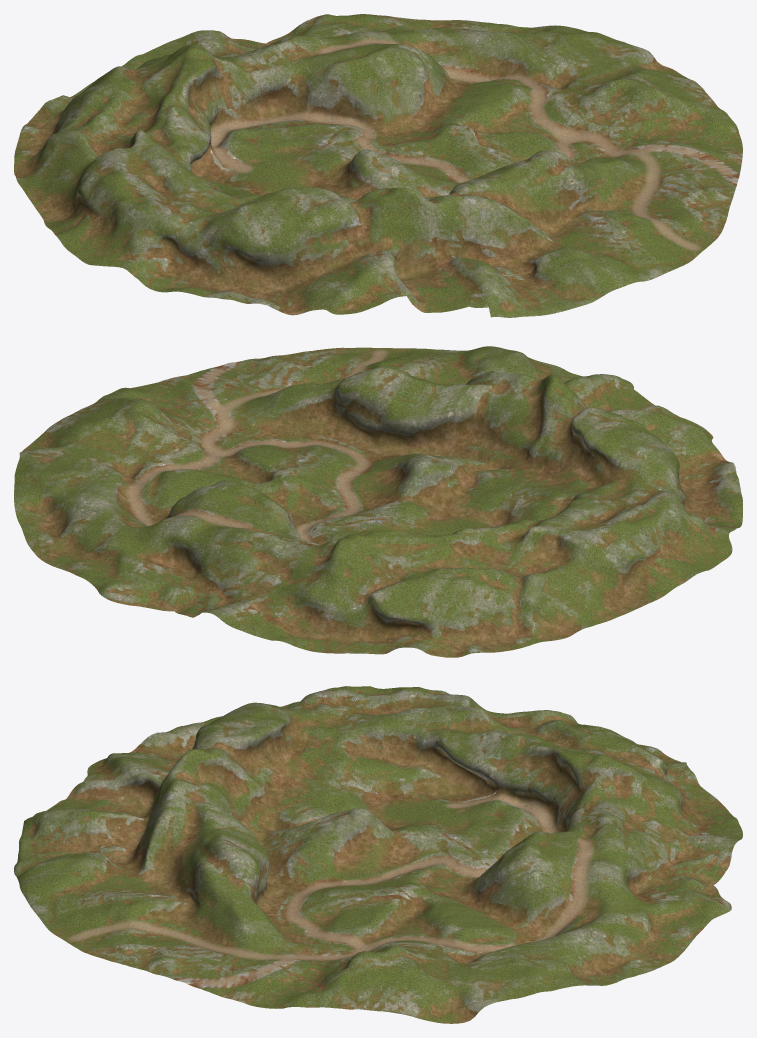
The model's file is terrain.glb.
3 views of the same model, one above another, from view 1: azimuth 30°, elevation 25°; view 2: azimuth 150°, elevation 25°; view 3: azimuth 270°, elevation 25° (orthographic).
Parts seen in each view (by area): view 1: low; view 2: low; view 3: low.
Part boxes in pixels (x1,y1,x2,y2): low: (14, 14, 742, 317); low: (14, 346, 742, 657); low: (14, 686, 742, 1023).
Bounding box in the file's own units: 15.07 × 1.72 × 14.56.
Materials: 1 (1 with a texture image).
